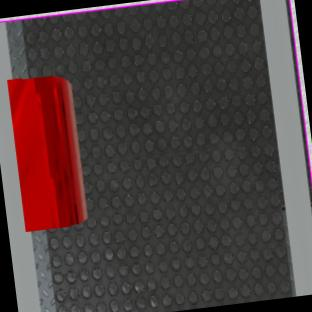objects: (3, 67, 91, 238)
